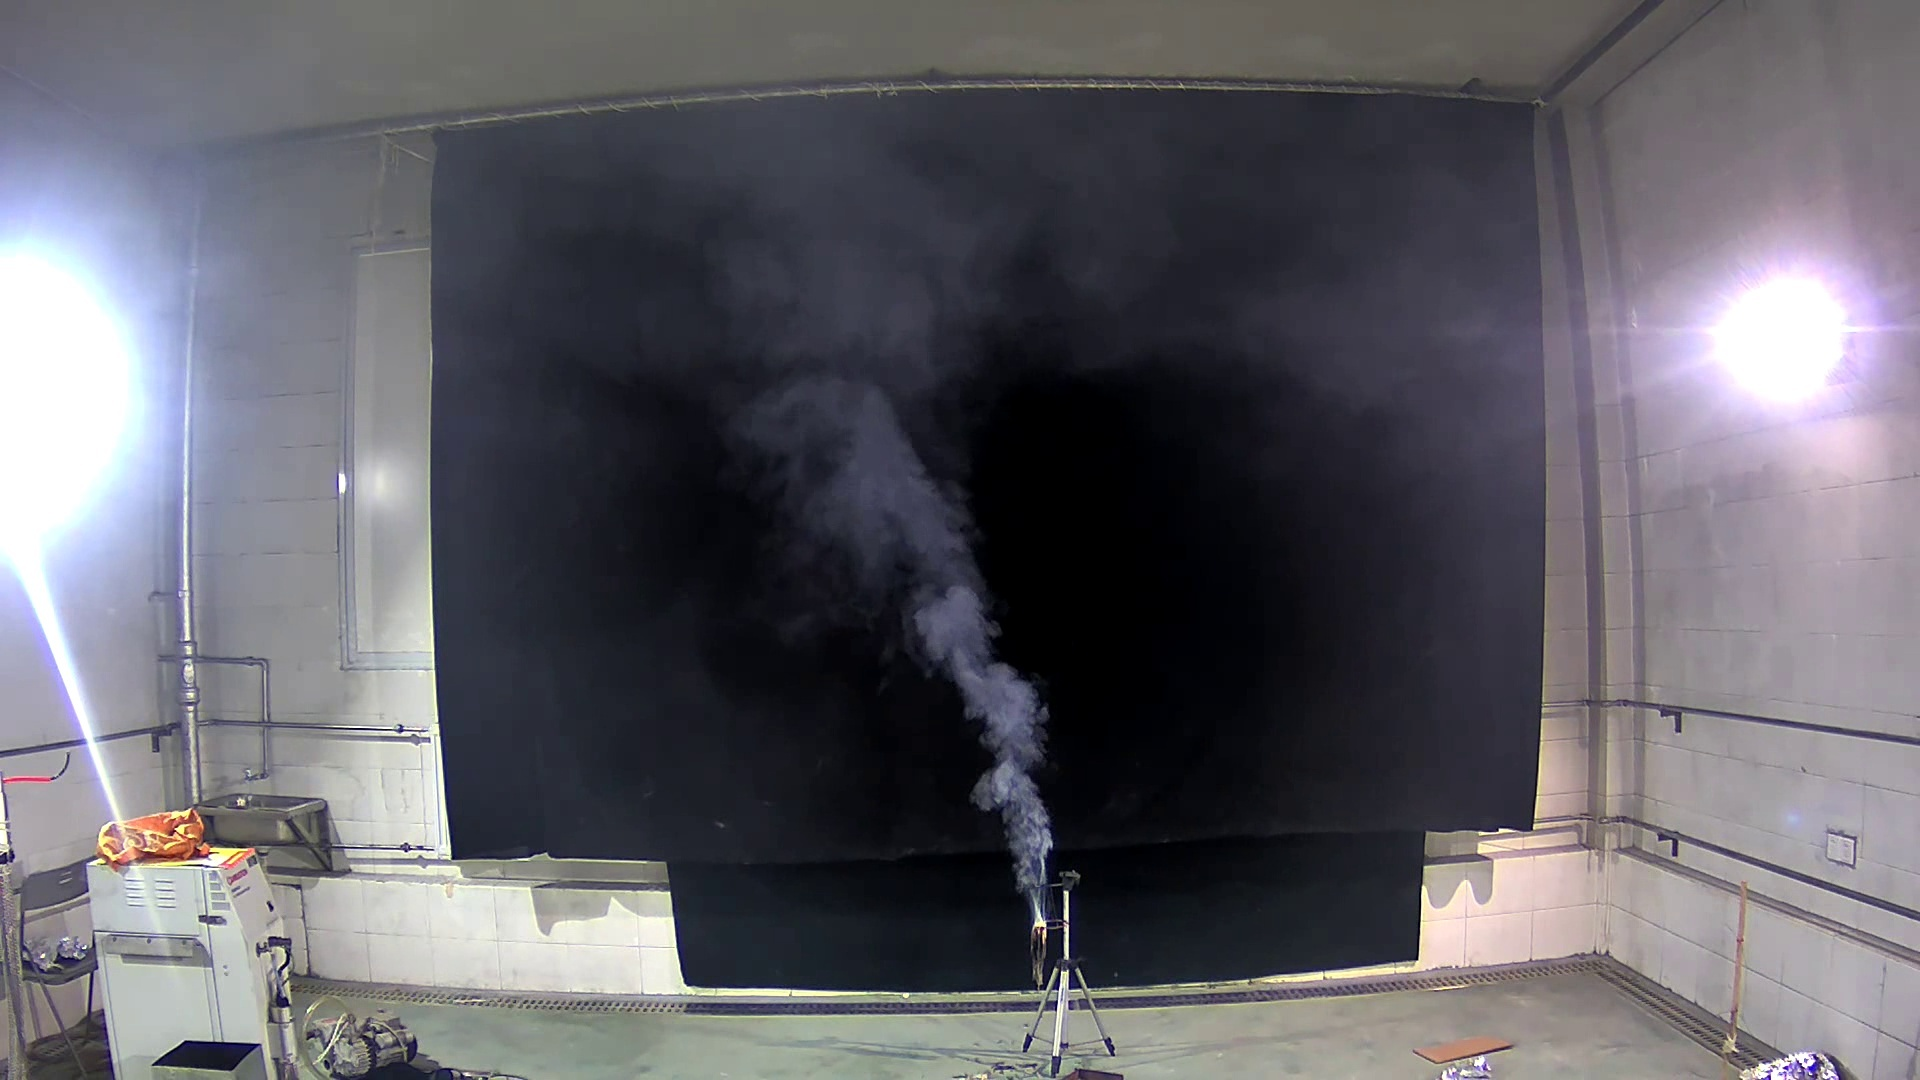smoke: (754, 372, 1063, 876)
